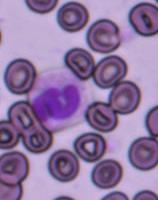N: (29, 68, 89, 132)
